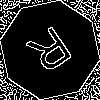R: (25, 25, 81, 83)
